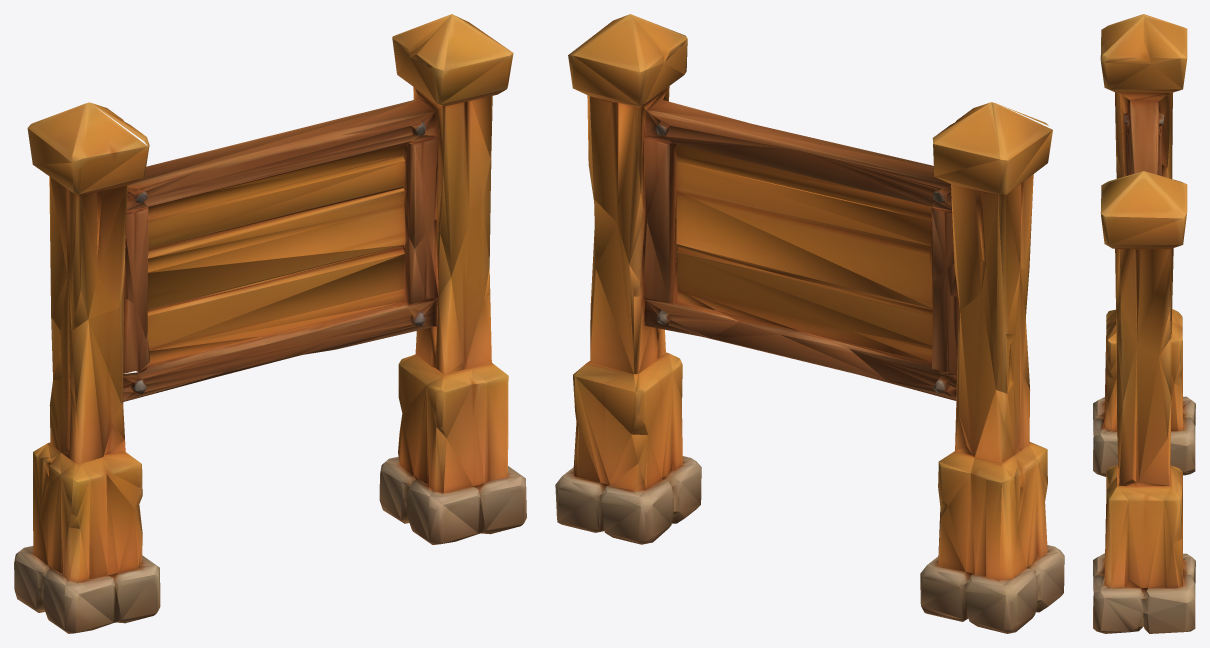
Rendered from sign_post.glb.
3 renders of one model, left to right at view 1: azimuth 30°, elevation 25°; view 2: azimuth 150°, elevation 25°; view 3: azimuth 270°, elevation 25°, orthographic. The views are drawn at different scales.
Parts seen in each view (by area): view 1: tripo_node_6ab6c7f0-16b0-4224-84c7-4e195e5382ea; view 2: tripo_node_6ab6c7f0-16b0-4224-84c7-4e195e5382ea; view 3: tripo_node_6ab6c7f0-16b0-4224-84c7-4e195e5382ea.
Boxes of the visible parts, x1=… form: tripo_node_6ab6c7f0-16b0-4224-84c7-4e195e5382ea: x1=14, y1=14, x2=526, y2=633; tripo_node_6ab6c7f0-16b0-4224-84c7-4e195e5382ea: x1=555, y1=14, x2=1064, y2=633; tripo_node_6ab6c7f0-16b0-4224-84c7-4e195e5382ea: x1=1093, y1=14, x2=1195, y2=633.
Bounding box in the file's own units: 8.17 × 8.45 × 1.78.
Materials: 1 (1 with a texture image).
